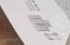1d: (26, 11, 52, 33)
